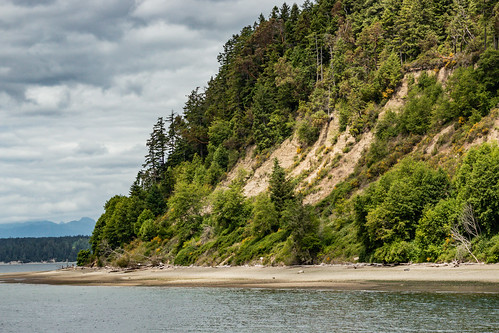sea: (2, 282, 499, 333)
sky: (1, 1, 216, 222)
vegetation: (114, 1, 499, 266)
